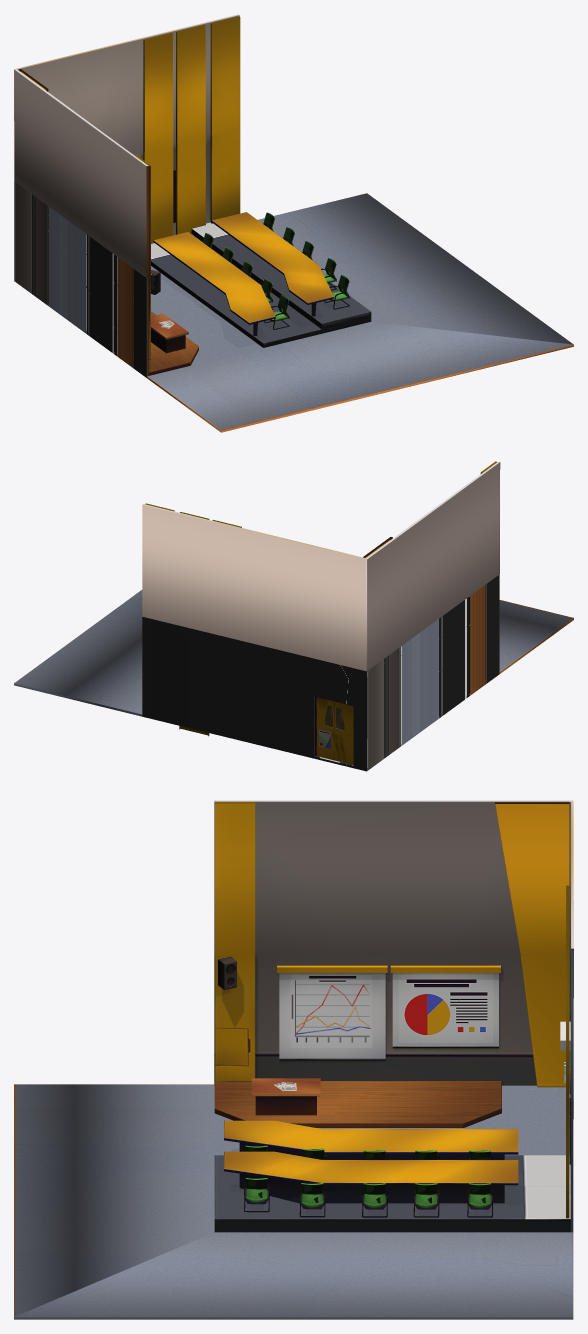
File: Tx_Interior_Education_Commerce_20170727.fbx
The picture shows the model from 3 angles, top to bottom: view 1: azimuth 30°, elevation 25°; view 2: azimuth 150°, elevation 25°; view 3: azimuth 270°, elevation 25°; orthographic projection. The views are drawn at different scales.
Parts seen in each view (by area): view 1: polySurface798, group4, desk1, Chair_top, chair_bottom; view 2: polySurface798, group4; view 3: polySurface798, group4, desk1, Chair_top, chair_bottom.
Boxes of the visible parts, bbox=[...] form: polySurface798: bbox=[14, 14, 573, 432]; group4: bbox=[14, 129, 371, 377]; desk1: bbox=[151, 212, 333, 353]; Chair_top: bbox=[262, 212, 349, 309]; chair_bottom: bbox=[203, 233, 289, 329]; polySurface798: bbox=[14, 461, 573, 716]; group4: bbox=[142, 574, 499, 771]; polySurface798: bbox=[14, 800, 573, 1319]; group4: bbox=[214, 953, 573, 1232]; desk1: bbox=[224, 1021, 570, 1203]; Chair_top: bbox=[243, 1178, 493, 1217]; chair_bottom: bbox=[245, 1145, 493, 1159].
Bounding box in the file's own units: 82.41 × 48.5 × 83.73.
